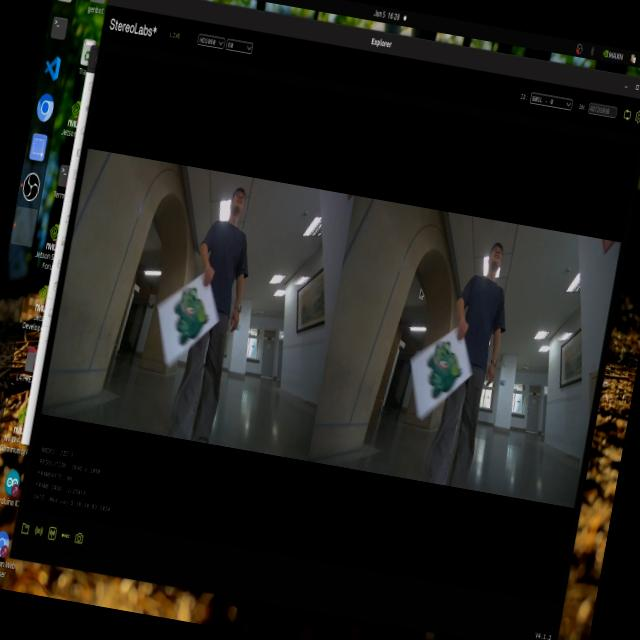green: (157, 286, 225, 352), (414, 337, 472, 398)
